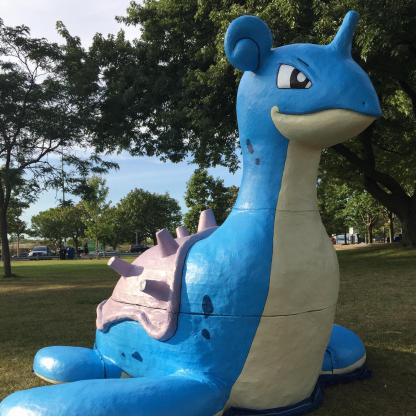Lapras: (28, 10, 394, 416)
